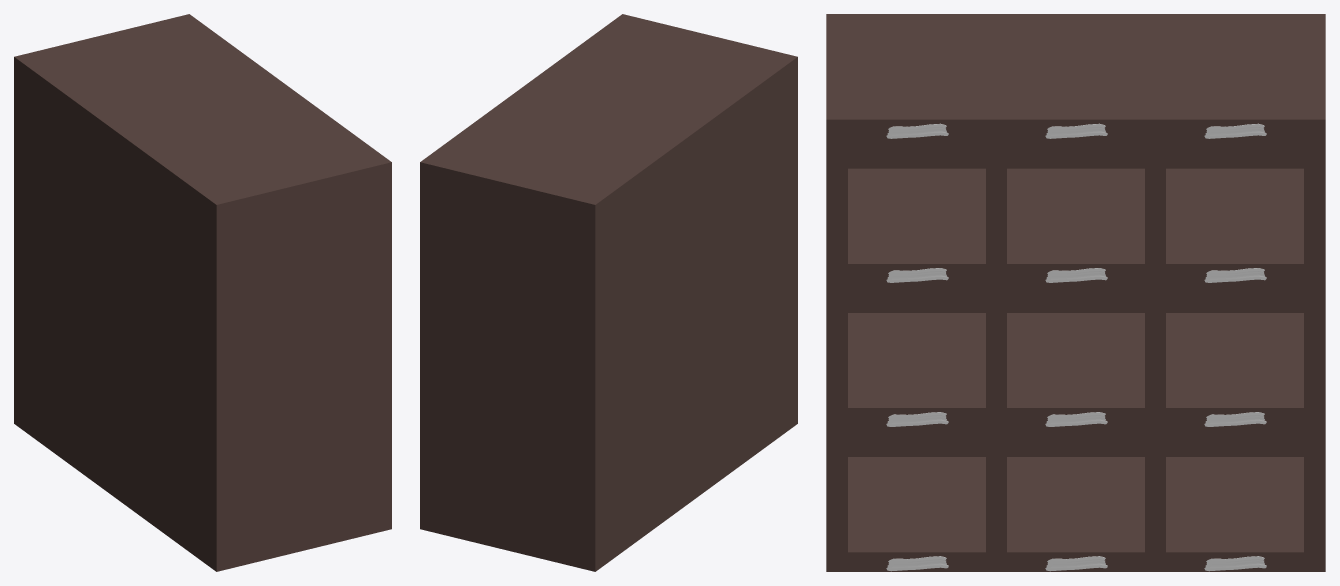
Rendered from Cubby V3 EXPORT.fbx.
3 views of the same model, side by side, from view 1: azimuth 30°, elevation 25°; view 2: azimuth 150°, elevation 25°; view 3: azimuth 270°, elevation 25° (orthographic). The views are drawn at different scales.
Parts seen in each view (by area): view 1: Cube; view 2: Cube; view 3: Cube, Cube.008, Cube.004, Cube.006, Cube.009, Cube.010, Cube.011, Cube.012, Cube.001, Cube.002, Cube.003, Cube.005 (+1 smaller).
Boxes of the visible parts, <box> form: Cube: <box>14,14,391,571</box>; Cube: <box>420,14,797,571</box>; Cube: <box>826,14,1325,571</box>; Cube.008: <box>1204,556,1266,571</box>; Cube.004: <box>886,556,948,571</box>; Cube.006: <box>1045,556,1107,571</box>; Cube.009: <box>1204,268,1266,282</box>; Cube.010: <box>1204,123,1266,138</box>; Cube.011: <box>1045,123,1107,138</box>; Cube.012: <box>886,123,948,138</box>; Cube.001: <box>1045,412,1107,426</box>; Cube.002: <box>1204,412,1266,426</box>; Cube.003: <box>886,412,948,426</box>; Cube.005: <box>886,268,948,282</box>.
Bounding box in the file's own units: 236 × 471 × 471.
